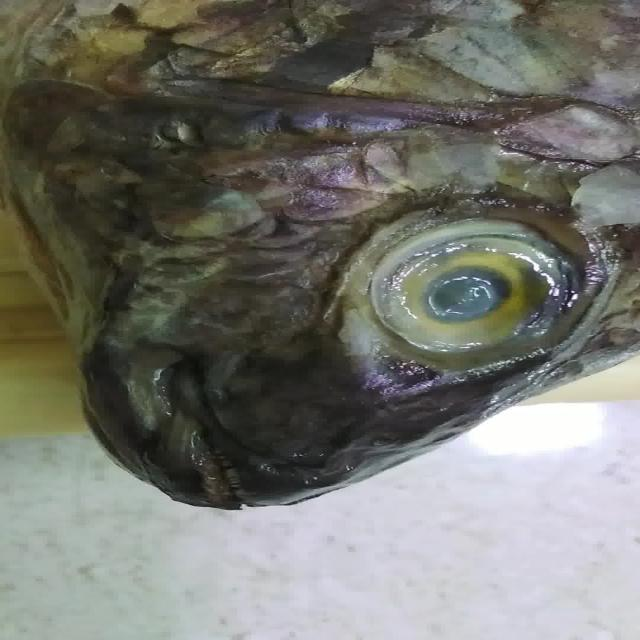Non-Fresh: (340, 203, 579, 367)
